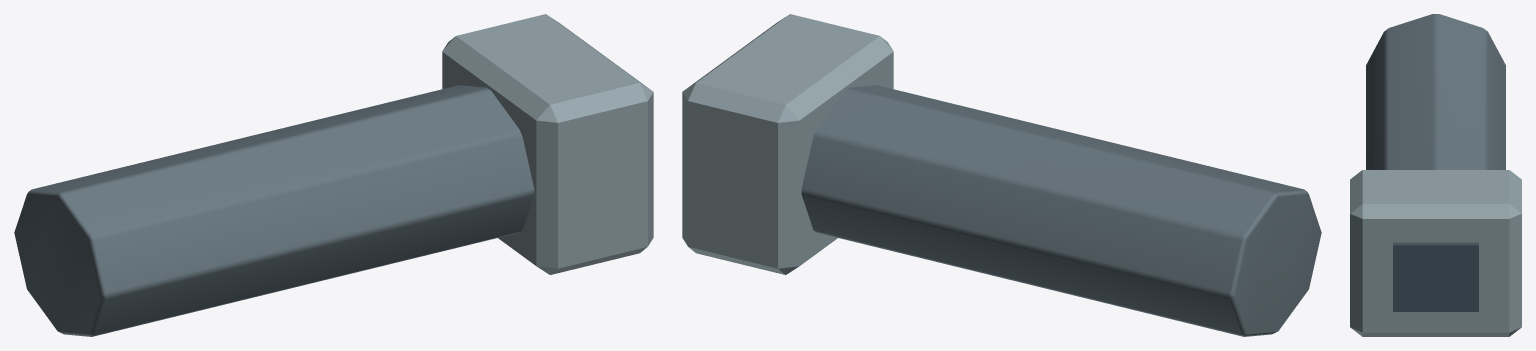
The model's file is SM_Anvil_Weapon.fbx.
The picture shows the model from 3 angles, left to right: view 1: azimuth 30°, elevation 25°; view 2: azimuth 150°, elevation 25°; view 3: azimuth 270°, elevation 25°; orthographic projection. The views are drawn at different scales.
Visible parts, largest first — view 1: SM_Anvil_Weapon; view 2: SM_Anvil_Weapon; view 3: SM_Anvil_Weapon.
Boxes of the visible parts, bbox=[...] form: SM_Anvil_Weapon: bbox=[14, 14, 653, 336]; SM_Anvil_Weapon: bbox=[682, 14, 1321, 336]; SM_Anvil_Weapon: bbox=[1350, 14, 1521, 336].
Bounding box in the file's own units: 26.99 × 9.24 × 7.89.
